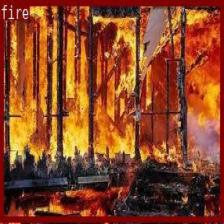fire: (0, 0, 223, 220)
